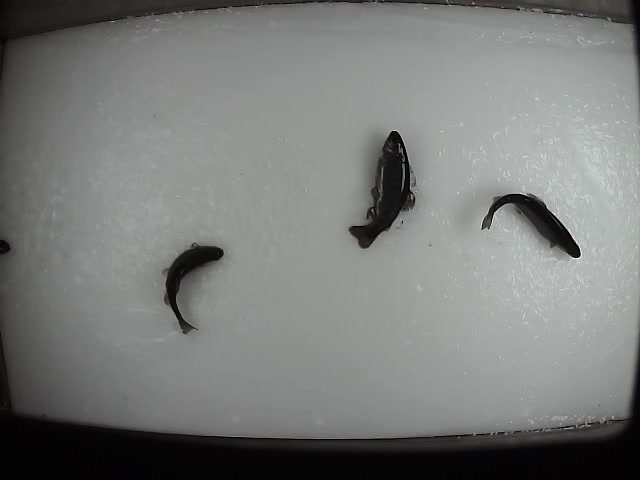Fish: (348, 130, 416, 249), (481, 194, 580, 258), (162, 242, 224, 334)
